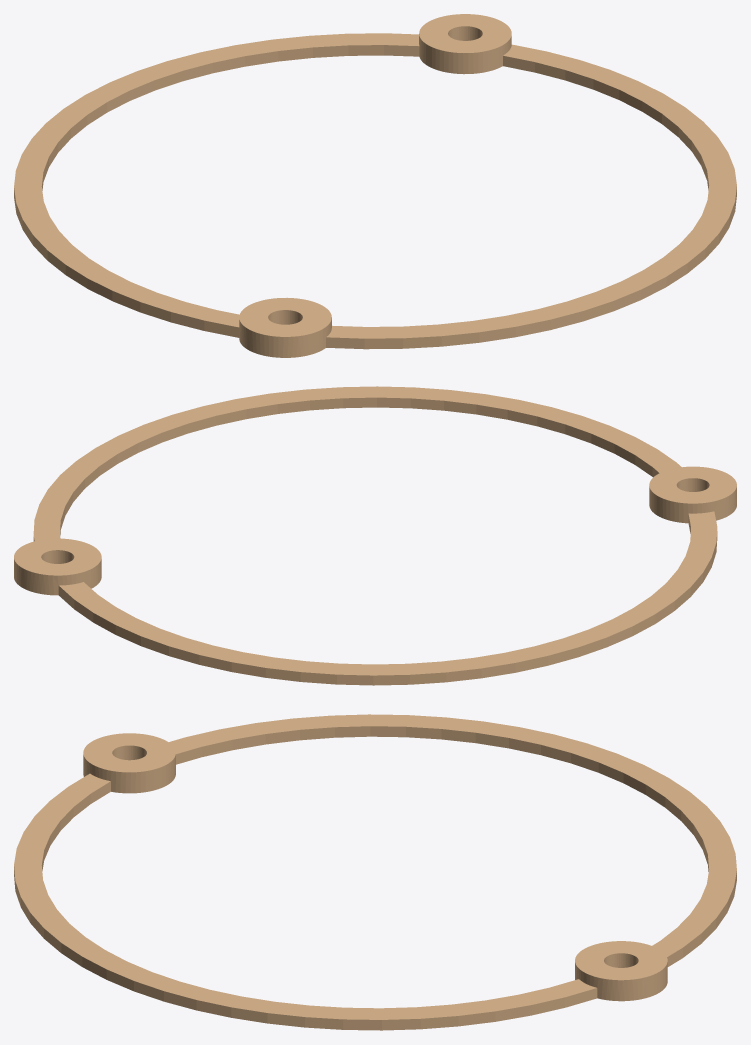
The model's file is starter-motor-ground-bridge.glb.
The picture shows the model from 3 angles, top to bottom: view 1: azimuth 30°, elevation 25°; view 2: azimuth 150°, elevation 25°; view 3: azimuth 270°, elevation 25°; orthographic projection. The views are drawn at different scales.
Parts seen in each view (by area): view 1: world; view 2: world; view 3: world.
Part boxes in pixels (x1,y1,x2,y2): world: [14, 14, 736, 357]; world: [14, 386, 736, 685]; world: [14, 714, 736, 1030].
Bounding box in the file's own units: 0.0624 × 0.002 × 0.0624.
